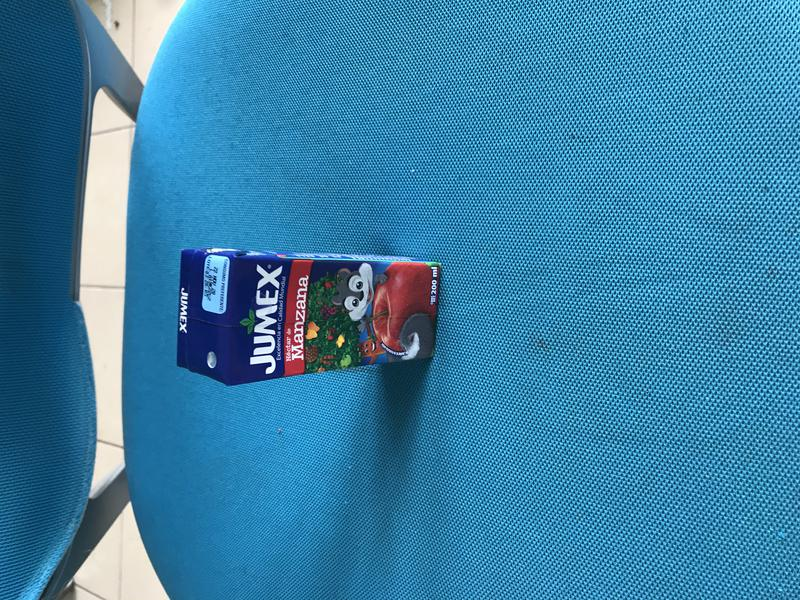jumex_cajita: (177, 248, 441, 388)
